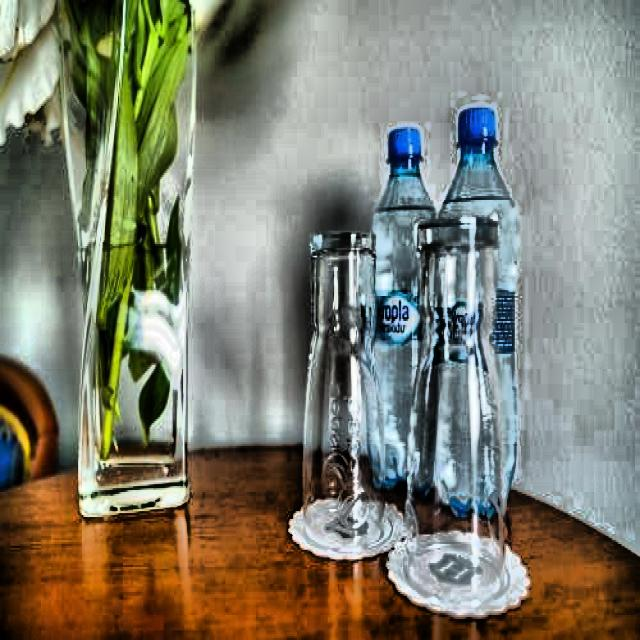Bottles: (357, 124, 440, 497)
